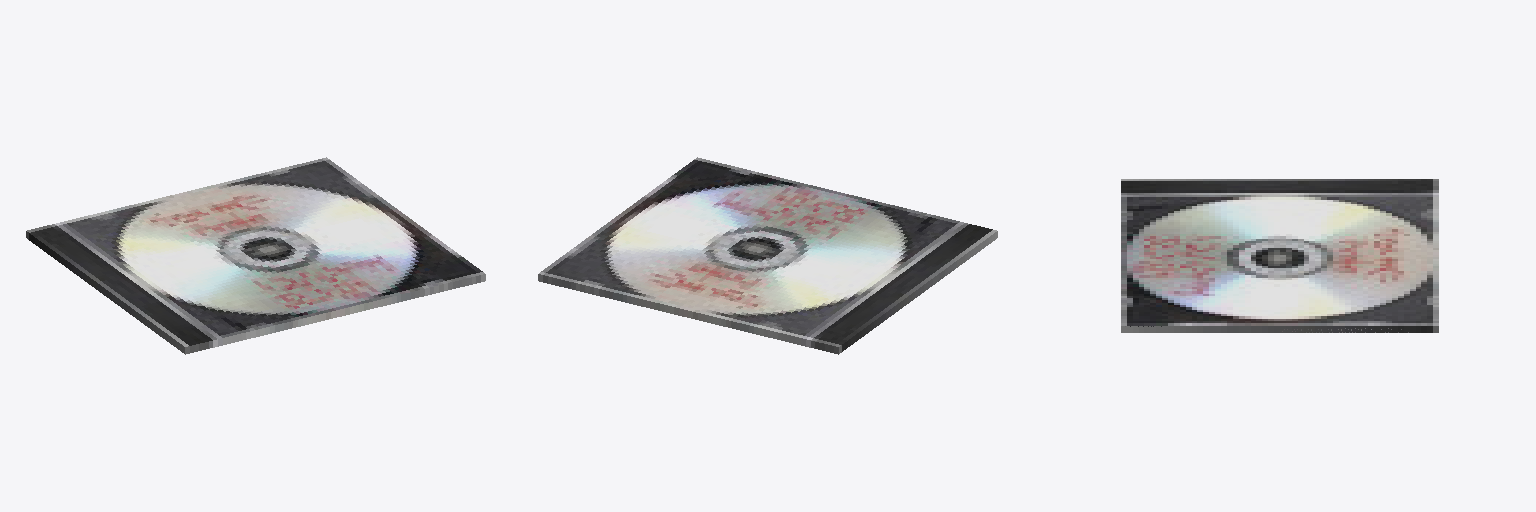
The picture shows the model from 3 angles: view 1: azimuth 30°, elevation 25°; view 2: azimuth 150°, elevation 25°; view 3: azimuth 270°, elevation 25°; orthographic projection.
Parts seen in each view (by area): view 1: cd_back; view 2: cd_back; view 3: cd_back.
Part boxes in pixels (x1,y1,x2,y2): cd_back: (26, 157, 485, 354); cd_back: (538, 157, 997, 354); cd_back: (1121, 179, 1438, 332).
Bounding box in the file's own units: 0.3215 × 0.0076 × 0.2948.
Materials: 2 (2 with a texture image).